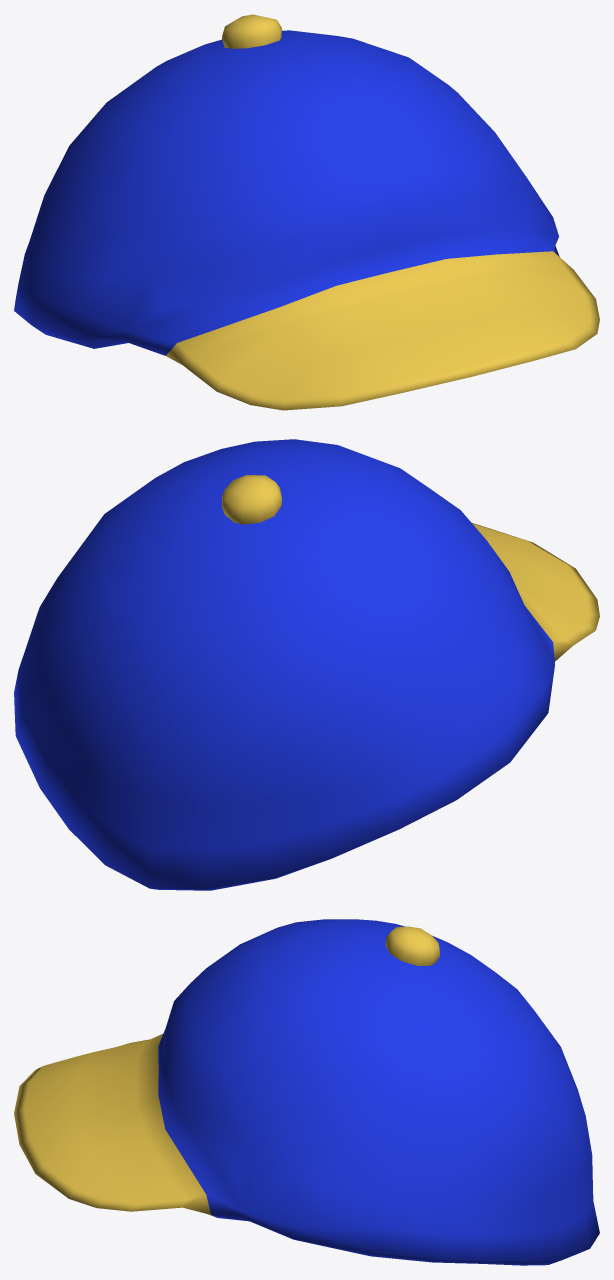
Rendered from Hat_Custom.fbx.
The picture shows the model from 3 angles, top to bottom: view 1: azimuth 30°, elevation 25°; view 2: azimuth 150°, elevation 25°; view 3: azimuth 270°, elevation 25°; orthographic projection. The views are drawn at different scales.
Parts seen in each view (by area): view 1: Hat-Custom; view 2: Hat-Custom; view 3: Hat-Custom.
Part boxes in pixels (<box>): Hat-Custom: <box>14,14,599,410</box>; Hat-Custom: <box>14,439,599,890</box>; Hat-Custom: <box>14,919,599,1265</box>.
Bounding box in the file's own units: 3.24 × 2.2 × 3.76.
